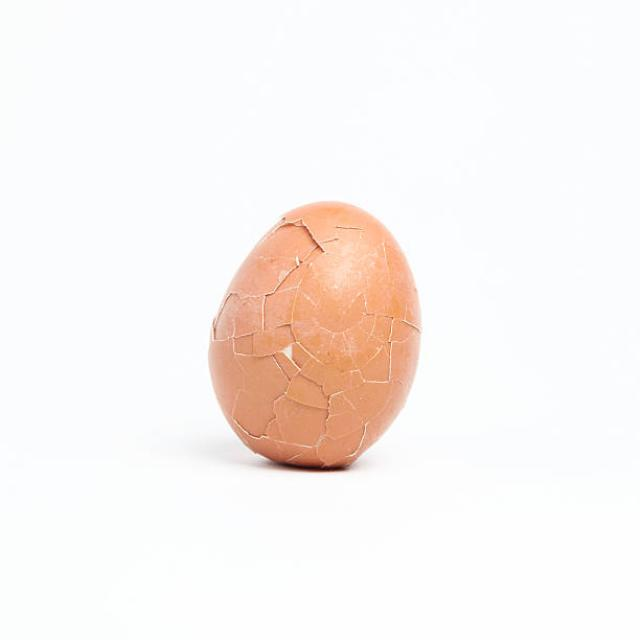Crack: (225, 202, 416, 472)
Egg: (193, 181, 457, 501)
